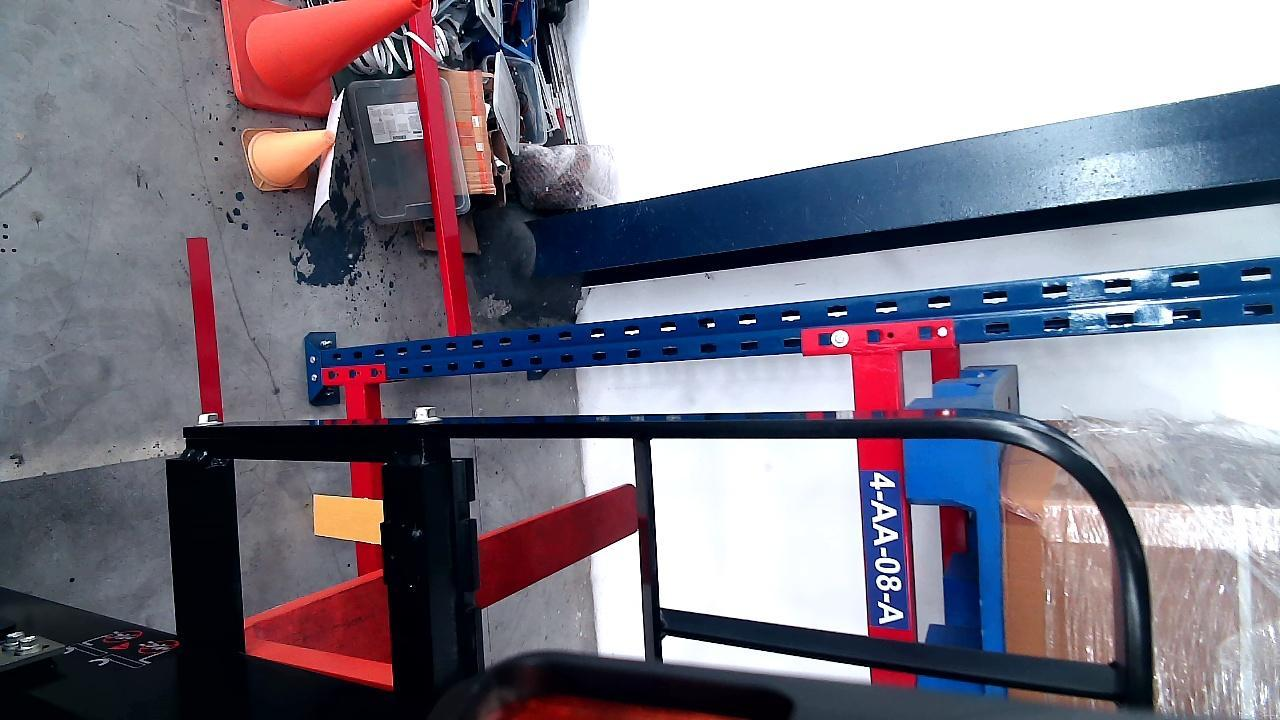red_line: (188, 234, 222, 414)
